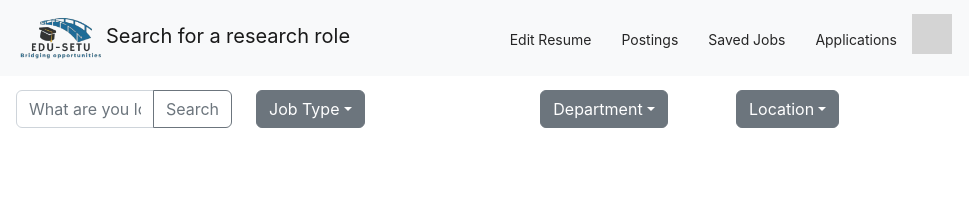
Department filter populates
This screenshot has width=969, height=198.
Click the button "Department": click(604, 109) [540,90,668,128]
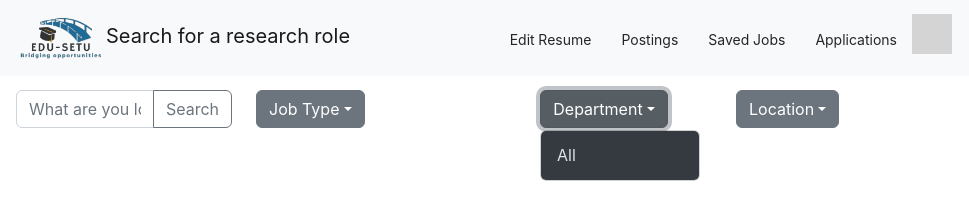
Expected: the button "All" is shown, [557,145,576,165]
